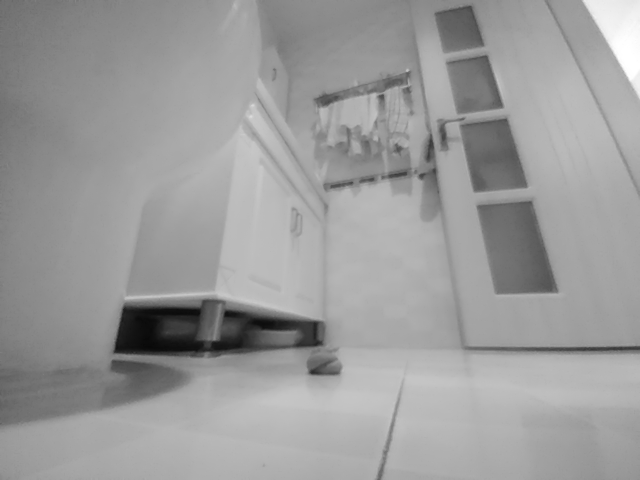pet feces: (304, 344, 344, 377)
